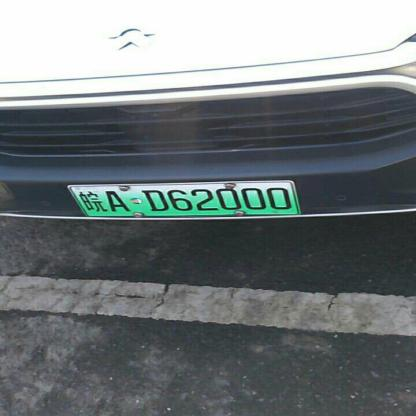lp: (69, 181, 297, 215)
